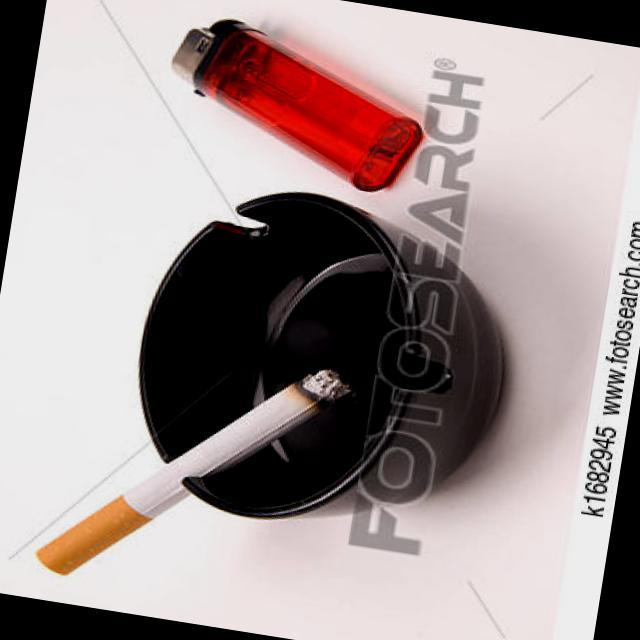cigarette: (23, 323, 355, 618)
